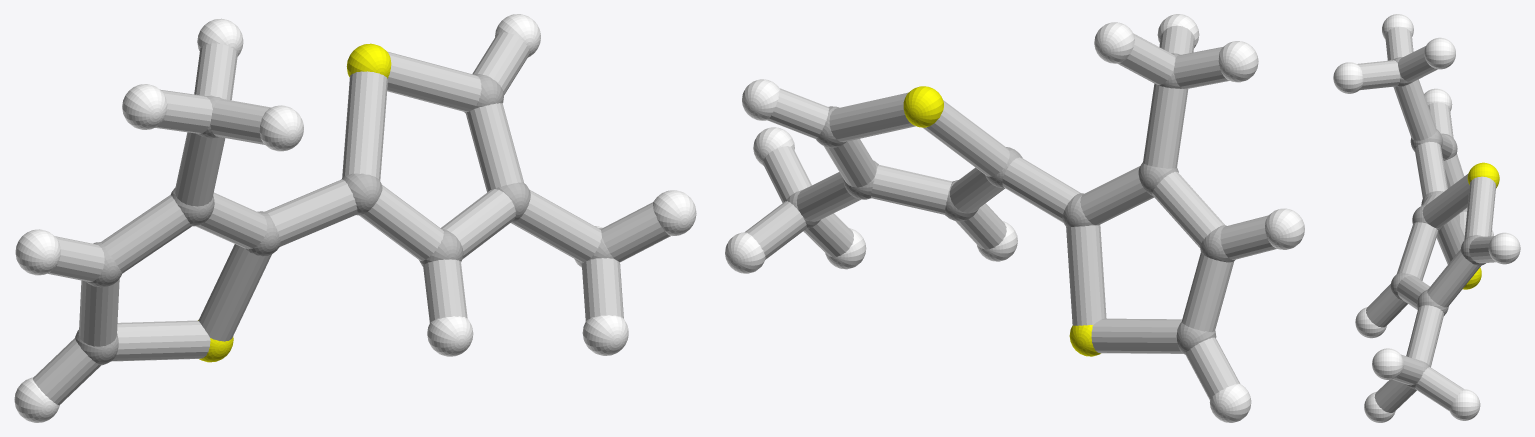
File: Methylthiophene_Phi_25_Theta_310_Methylthiophene.glb
3 renders of one model, left to right at view 1: azimuth 30°, elevation 25°; view 2: azimuth 150°, elevation 25°; view 3: azimuth 270°, elevation 25°, orthographic. The views are drawn at different scales.
Parts seen in each view (by area): view 1: grp7965, grp3621, grp1, grp7241; view 2: grp7965, grp3621, grp1, grp7241; view 3: grp7965, grp3621, grp1, grp7241.
Boxes of the visible parts, x1,y1,x2,y2 form: grp7965: (33, 32, 670, 405); grp3621: (14, 14, 696, 422); grp1: (75, 74, 613, 365); grp7241: (198, 43, 391, 362); grp7965: (745, 25, 1277, 399); grp3621: (725, 14, 1304, 422); grp1: (786, 53, 1235, 354); grp7241: (903, 86, 1100, 356); grp7965: (1357, 27, 1496, 412); grp3621: (1333, 14, 1520, 422); grp1: (1390, 57, 1485, 389); grp7241: (1463, 162, 1499, 289).
Bounding box in the file's own units: 9.6 × 5.51 × 3.51.
